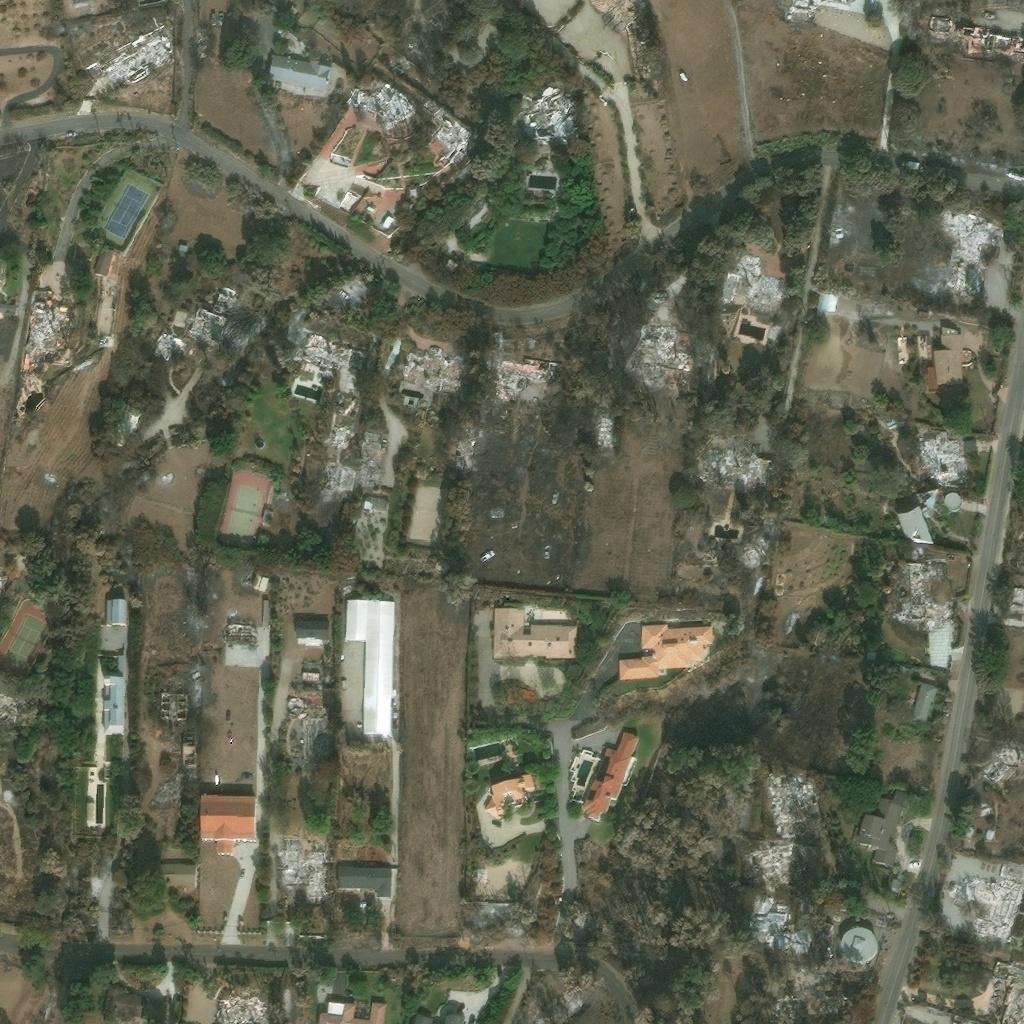0 no-damage: (345, 599, 394, 735), (617, 622, 713, 680), (579, 731, 637, 822), (491, 606, 576, 658), (853, 784, 906, 866), (198, 792, 255, 854), (924, 326, 963, 392), (484, 772, 535, 820), (269, 62, 328, 103), (335, 861, 390, 897), (317, 998, 386, 1023), (895, 505, 934, 544), (840, 926, 876, 962), (409, 1001, 466, 1023), (294, 613, 330, 645), (159, 862, 196, 885), (103, 692, 122, 730), (912, 488, 935, 516), (105, 599, 124, 623), (943, 491, 961, 509), (916, 685, 932, 701)
1 minor-damage: (816, 290, 837, 311), (897, 335, 907, 361), (917, 334, 927, 359)
2 major-damage: (299, 670, 319, 681)
3 destroyed: (933, 207, 1003, 290), (628, 320, 692, 391), (958, 868, 1022, 932), (396, 348, 464, 407), (760, 773, 818, 836), (518, 84, 578, 142), (911, 429, 968, 484), (346, 79, 417, 123), (281, 834, 327, 898), (736, 252, 784, 312), (297, 330, 369, 370), (183, 296, 235, 348), (951, 19, 1023, 53), (989, 956, 1023, 1023), (744, 897, 790, 946), (720, 439, 761, 490), (752, 841, 794, 888), (434, 115, 471, 164), (895, 600, 953, 631), (497, 356, 543, 395), (213, 994, 267, 1023), (771, 995, 822, 1023), (596, 0, 641, 25), (216, 274, 250, 307), (302, 717, 325, 758), (432, 0, 466, 26), (320, 463, 350, 492), (904, 560, 927, 596), (159, 691, 186, 719), (447, 433, 472, 462), (321, 423, 350, 445), (719, 269, 739, 300), (357, 459, 377, 489), (789, 923, 812, 948), (332, 389, 356, 412), (181, 729, 195, 767), (225, 620, 253, 638), (927, 13, 949, 35), (361, 429, 377, 458), (734, 980, 756, 1001), (777, 0, 813, 12), (815, 920, 835, 939), (249, 572, 269, 590), (860, 300, 885, 313), (287, 697, 305, 715), (475, 863, 486, 883), (883, 415, 898, 429), (390, 61, 404, 75), (874, 914, 888, 928), (286, 288, 299, 303), (829, 216, 840, 233), (301, 659, 319, 668), (900, 23, 916, 33), (381, 215, 393, 228), (408, 187, 419, 200), (859, 265, 873, 273), (651, 78, 659, 90)
4 un-classified: (521, 0, 573, 27)
